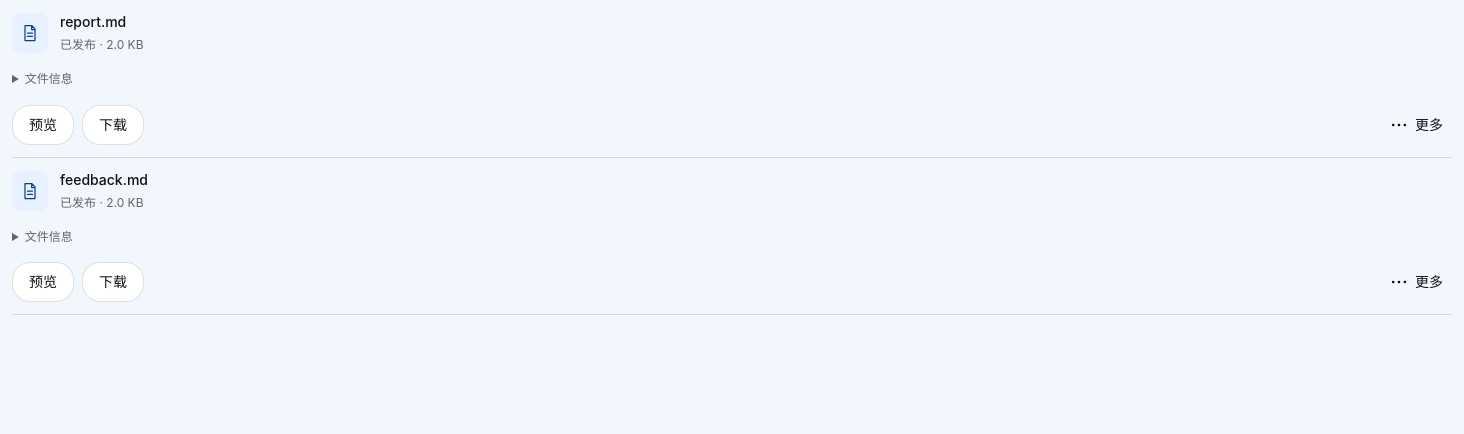
Scenario: P1-421 文件操作层级 › 点外关闭不会执行动作，也不会抢走新点击控件的焦点
The image size is (1464, 434).
Click the button with aria-label "更多文件操作" at (1416, 282), box [1380,262,1452,302]
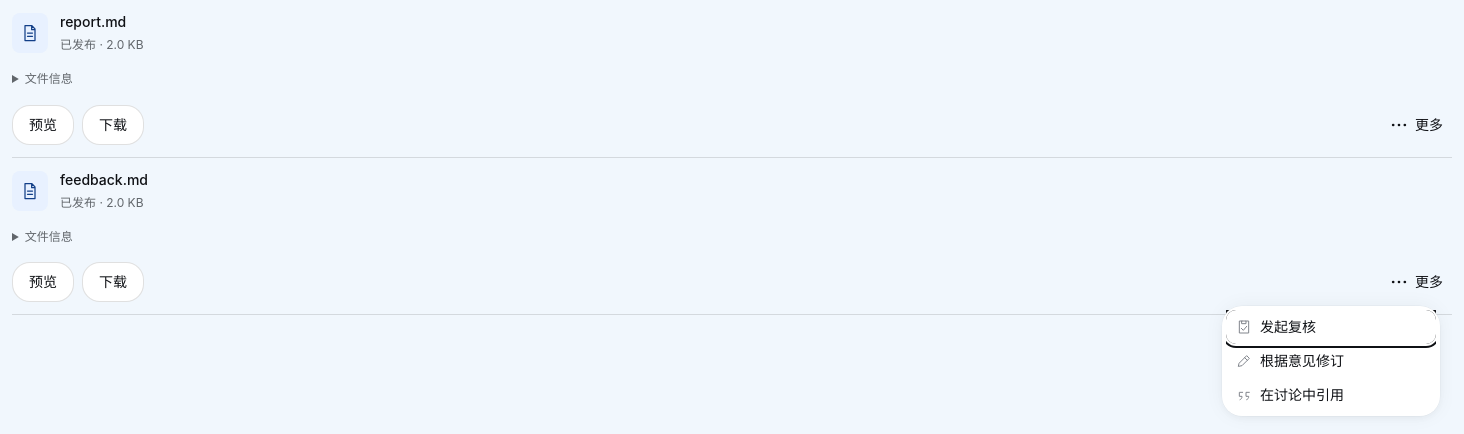
Note: 点标题只关闭；不触发受控内容接口或其他业务动作。
Click the text "report.md" at (93, 22), box [60,13,126,30]
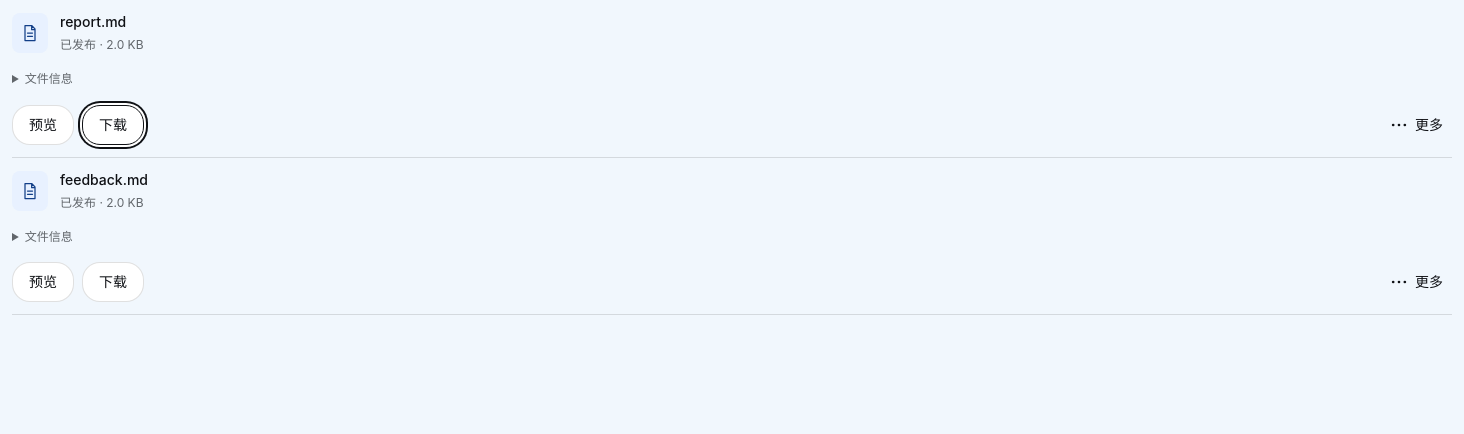
Expected: the menu is gone
